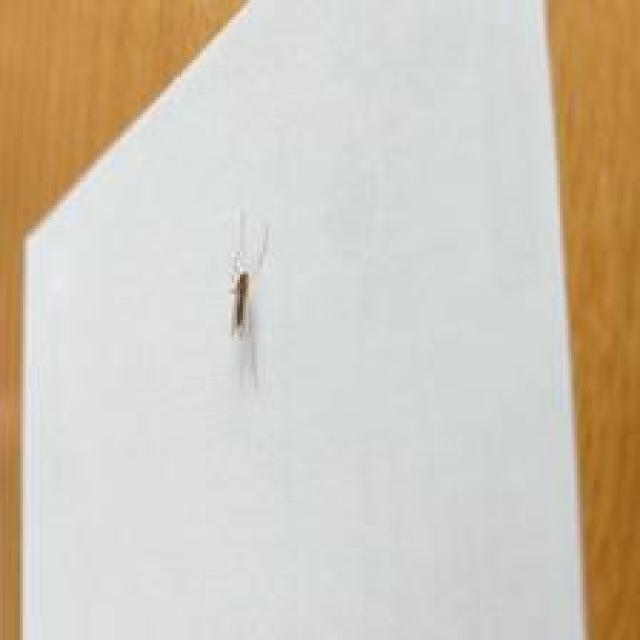Culex: (224, 208, 270, 388)
